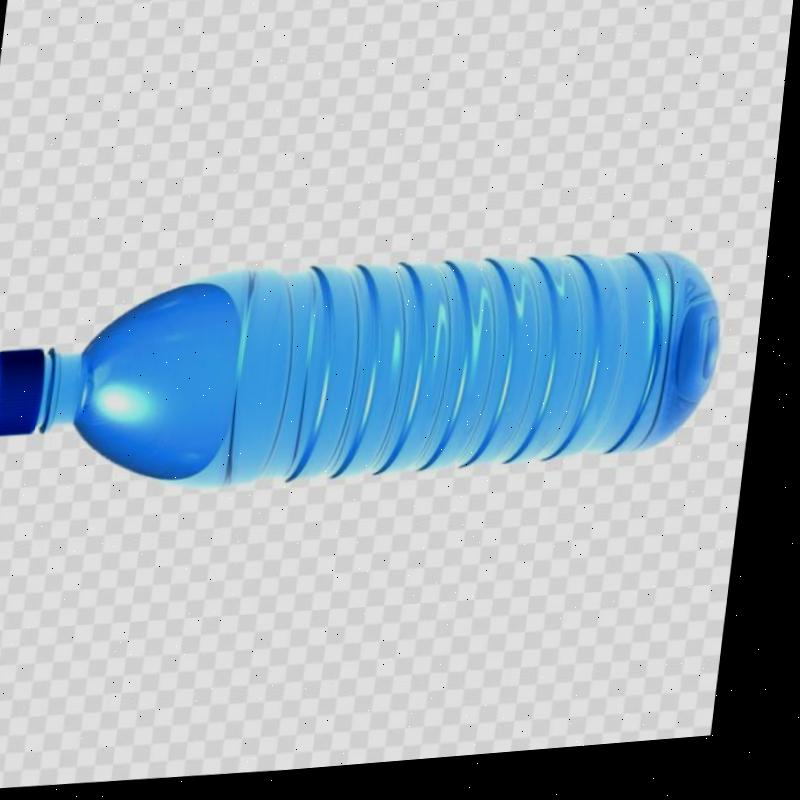botella: (0, 235, 743, 516)
